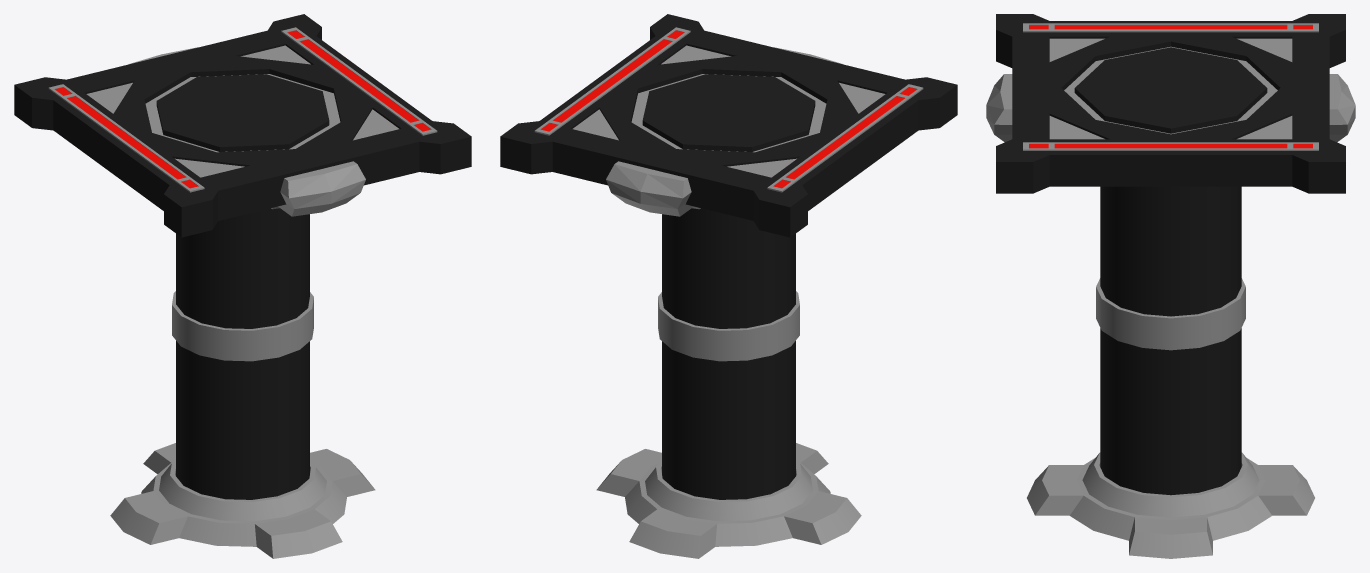
The model's file is Platform_Mechanic.fbx.
3 renders of one model, left to right at view 1: azimuth 30°, elevation 25°; view 2: azimuth 150°, elevation 25°; view 3: azimuth 270°, elevation 25°, orthographic. The views are drawn at different scales.
Visible parts, largest first — view 1: Platform, Tube, Bottom, Tube_Connector, Platform_Holder, Light_Indicator_1, Light_Indicator_2; view 2: Platform, Tube, Bottom, Tube_Connector, Platform_Holder, Light_Indicator_1, Light_Indicator_2; view 3: Platform, Tube, Bottom, Tube_Connector, Light_Indicator_2, Platform_Holder, Light_Indicator_1.
Part boxes in pixels (x1,y1,x2,y2): Platform: (14, 14, 471, 237); Tube: (176, 208, 309, 499); Bottom: (110, 443, 375, 558); Tube_Connector: (172, 291, 313, 361); Platform_Holder: (128, 47, 365, 216); Light_Indicator_1: (281, 27, 437, 135); Light_Indicator_2: (48, 84, 204, 192); Platform: (500, 14, 957, 237); Tube: (662, 208, 795, 499); Bottom: (596, 443, 861, 558); Tube_Connector: (658, 291, 799, 361); Platform_Holder: (606, 47, 843, 216); Light_Indicator_1: (534, 27, 690, 135); Light_Indicator_2: (767, 84, 923, 192); Platform: (996, 14, 1345, 193); Tube: (1100, 186, 1241, 495); Bottom: (1027, 452, 1314, 558); Tube_Connector: (1096, 278, 1245, 350); Light_Indicator_2: (1023, 23, 1318, 32); Platform_Holder: (986, 74, 1355, 142); Light_Indicator_1: (1023, 142, 1318, 150).
Size of the model in its own units: 199 by 258 by 210.
